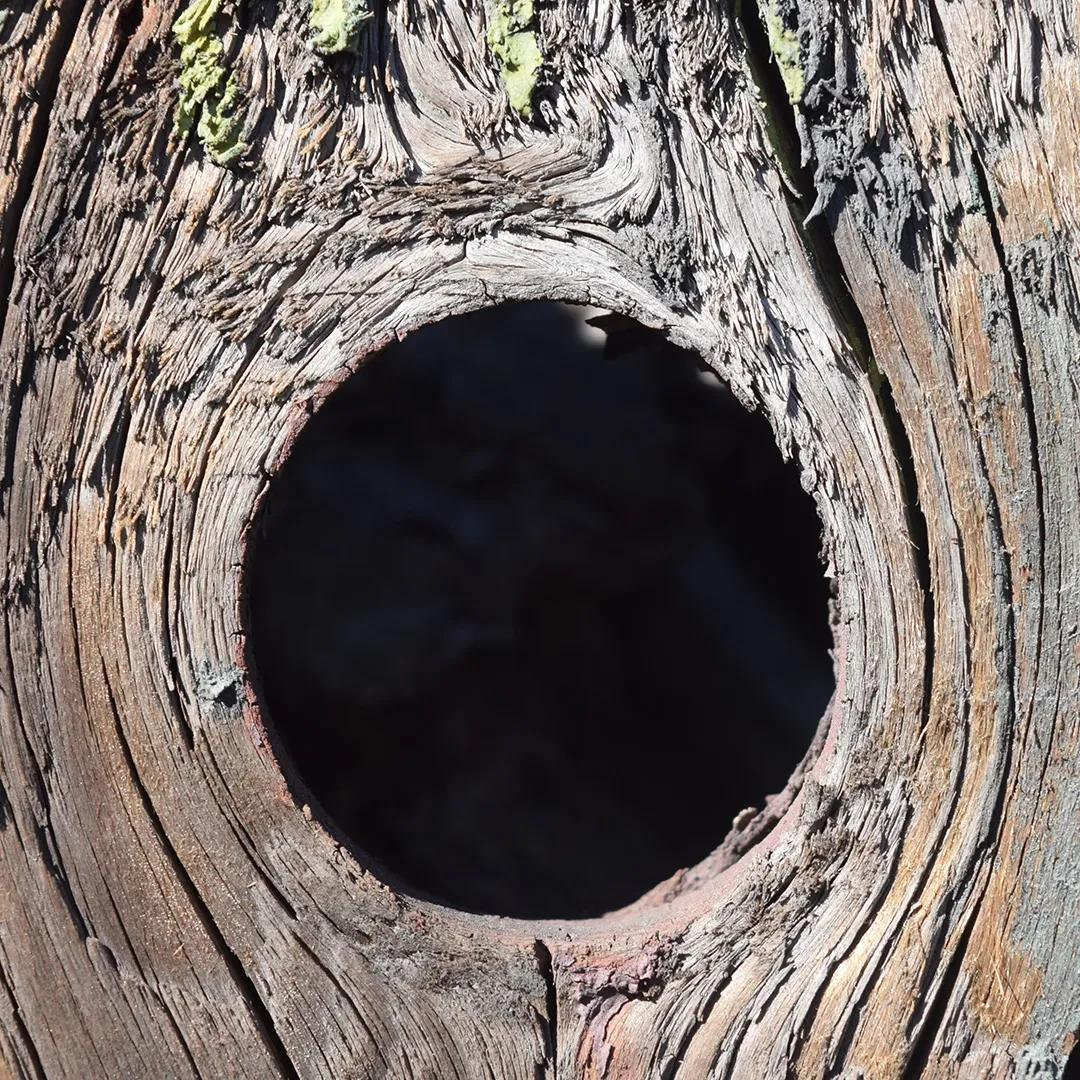hollow: (248, 303, 831, 917)
